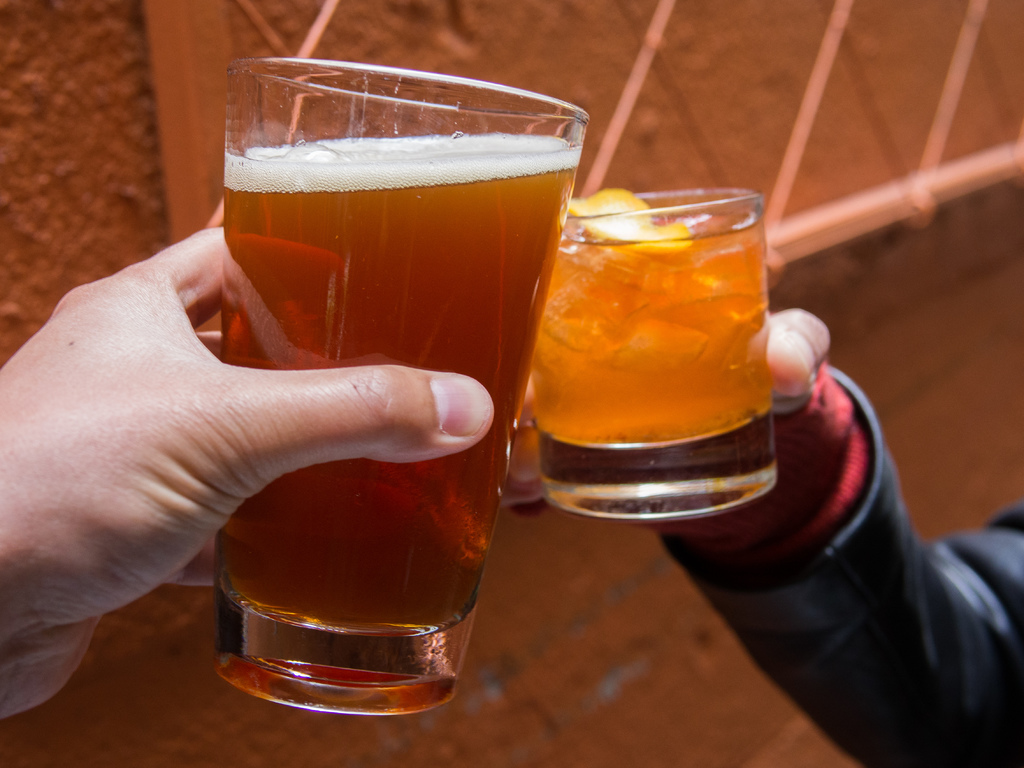Beer: (210, 56, 590, 715), (537, 188, 777, 519)
